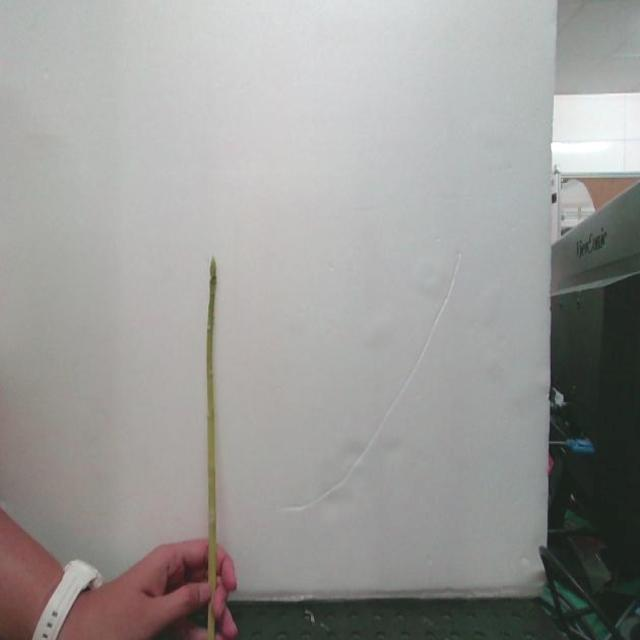aspargus: (206, 258, 225, 595)
